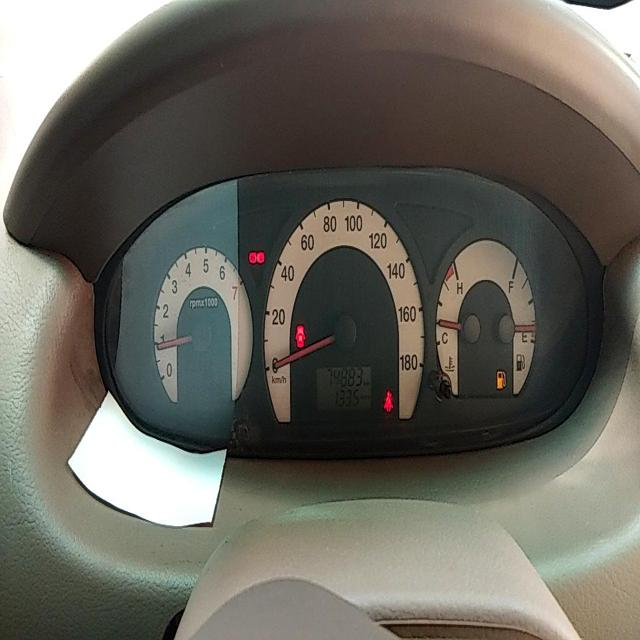odometer: (323, 366, 364, 391)
